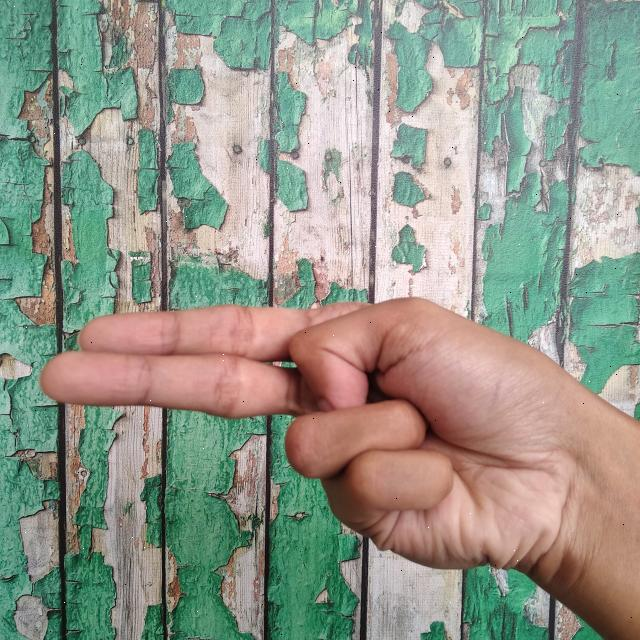H: (32, 288, 640, 640)
